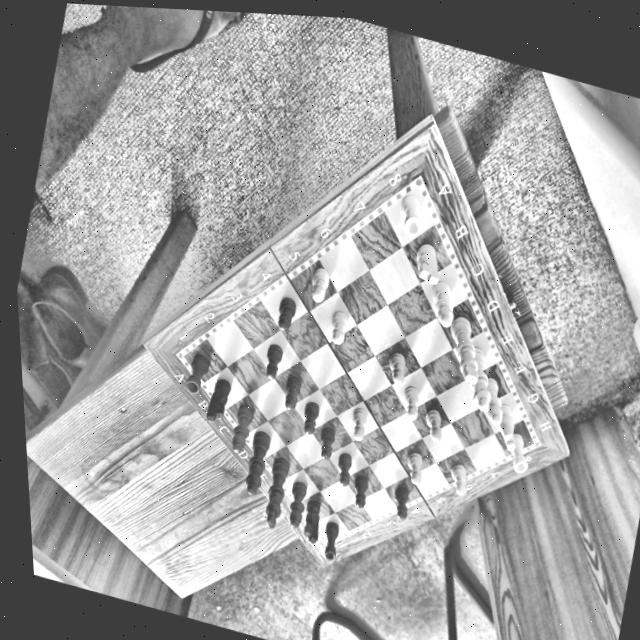black-bishop: (223, 397, 258, 459), (279, 473, 310, 529)
black-king: (254, 450, 296, 532)
black-knight: (199, 371, 236, 427), (295, 496, 326, 546)
black-pawn: (265, 289, 303, 335), (381, 477, 417, 523), (254, 337, 286, 384), (344, 467, 376, 513), (309, 417, 340, 463), (275, 370, 305, 414), (296, 393, 322, 436), (329, 446, 355, 488)
black-queen: (238, 425, 275, 499)
black-rook: (178, 347, 213, 400), (315, 517, 344, 563)
white-bishop: (469, 368, 515, 430), (420, 268, 463, 333)
white-king: (432, 307, 494, 390)
white-knight: (486, 395, 526, 456), (405, 236, 447, 291)
white-pawn: (316, 299, 356, 350), (439, 453, 475, 499), (377, 342, 412, 388), (300, 259, 335, 305), (416, 400, 450, 445), (341, 398, 373, 444), (397, 446, 431, 488), (393, 378, 424, 424)
white-queen: (453, 333, 504, 416)
white-rook: (388, 186, 431, 243), (497, 423, 539, 478)
